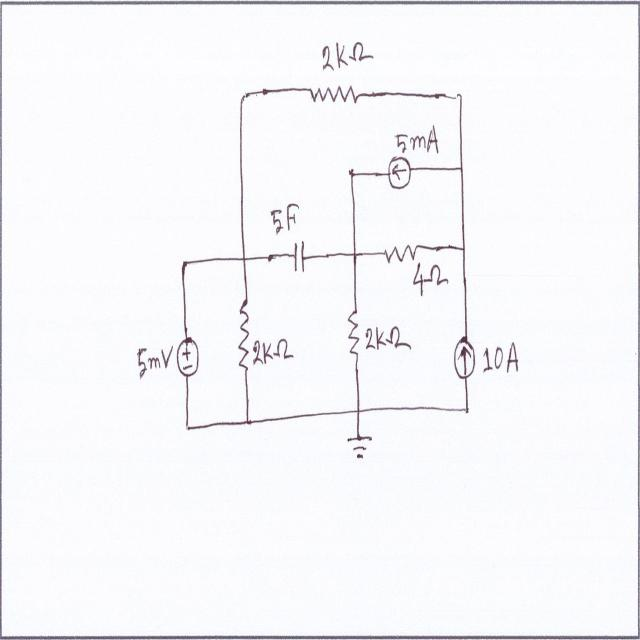capacitor: (291, 234, 309, 286)
current_source: (450, 325, 477, 385), (386, 150, 414, 198)
ground: (343, 431, 375, 464)
resistor: (306, 74, 361, 109), (236, 287, 252, 381), (380, 238, 424, 268), (344, 300, 362, 373)
voltage_source: (174, 331, 199, 385)
